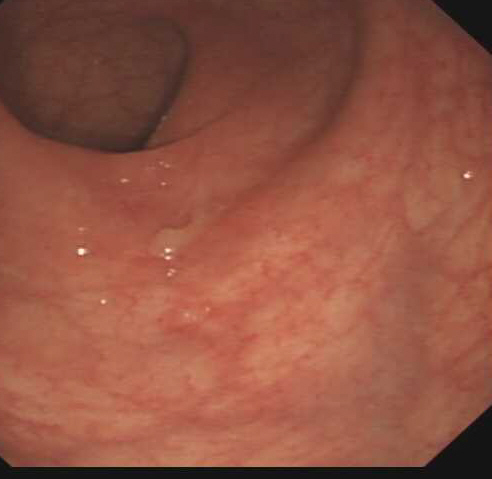others: (146, 222, 195, 261)
